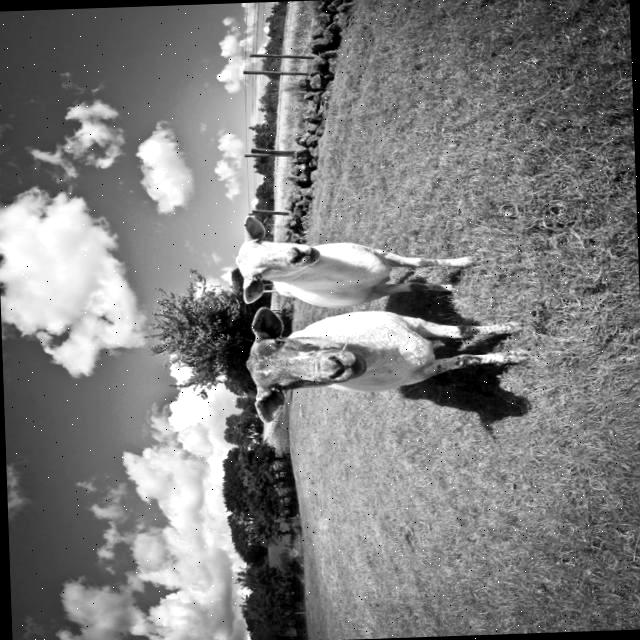sheep: (246, 307, 526, 412), (237, 216, 467, 308)
